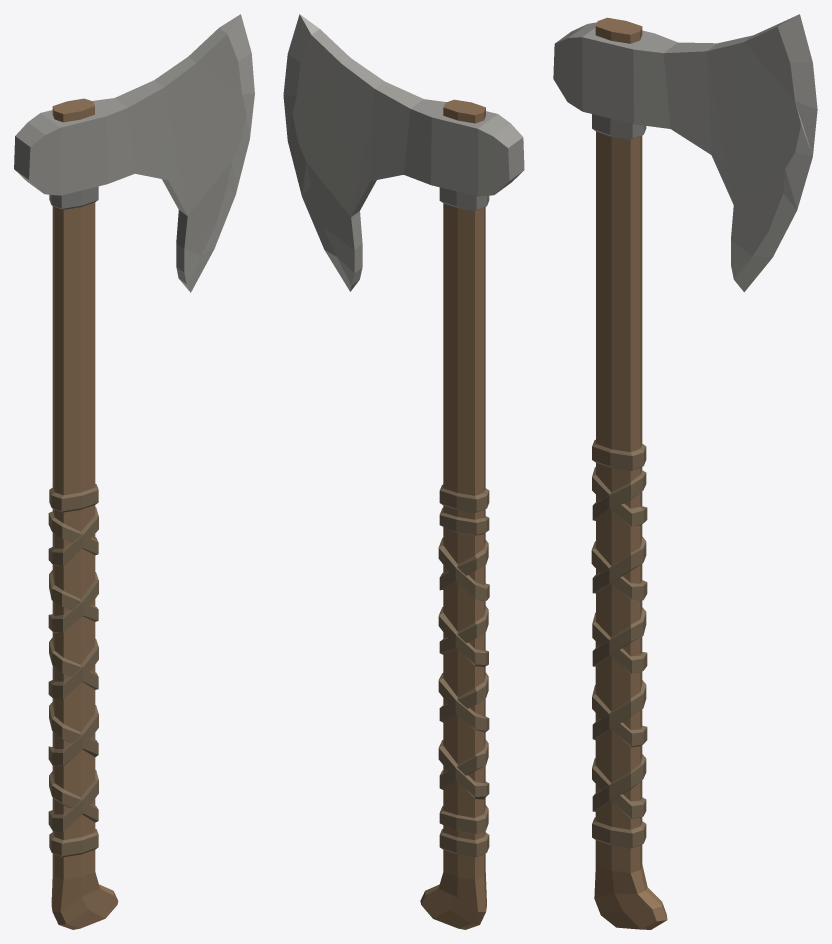
File: SM_pwe_slavic_axe_03.fbx
The picture shows the model from 3 angles, left to right: view 1: azimuth 30°, elevation 25°; view 2: azimuth 150°, elevation 25°; view 3: azimuth 330°, elevation 25°; orthographic projection. The views are drawn at different scales.
Parts seen in each view (by area): view 1: SM_pwe_slavic_axe_03; view 2: SM_pwe_slavic_axe_03; view 3: SM_pwe_slavic_axe_03.
Part boxes in pixels (x1,y1,x2,y2): SM_pwe_slavic_axe_03: (14, 14, 254, 929); SM_pwe_slavic_axe_03: (283, 14, 524, 929); SM_pwe_slavic_axe_03: (553, 14, 817, 929).
Size of the model in its own units: 28.72 by 103 by 4.3.
